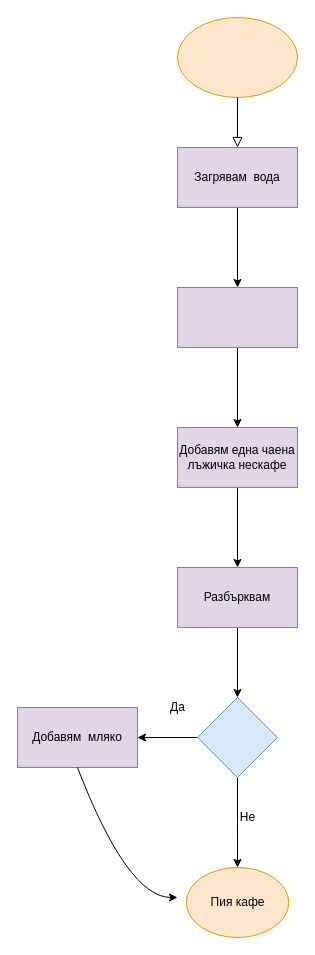
Some shapes in this 315 by 955 pixel diagram are drawn without their labels. Each missing label, with the box of its shape:
Искам ли мляко?: (196, 696, 278, 778)
Пие ми се кафе: (176, 16, 298, 98)
Сипвам я в чаша: (176, 286, 298, 348)
